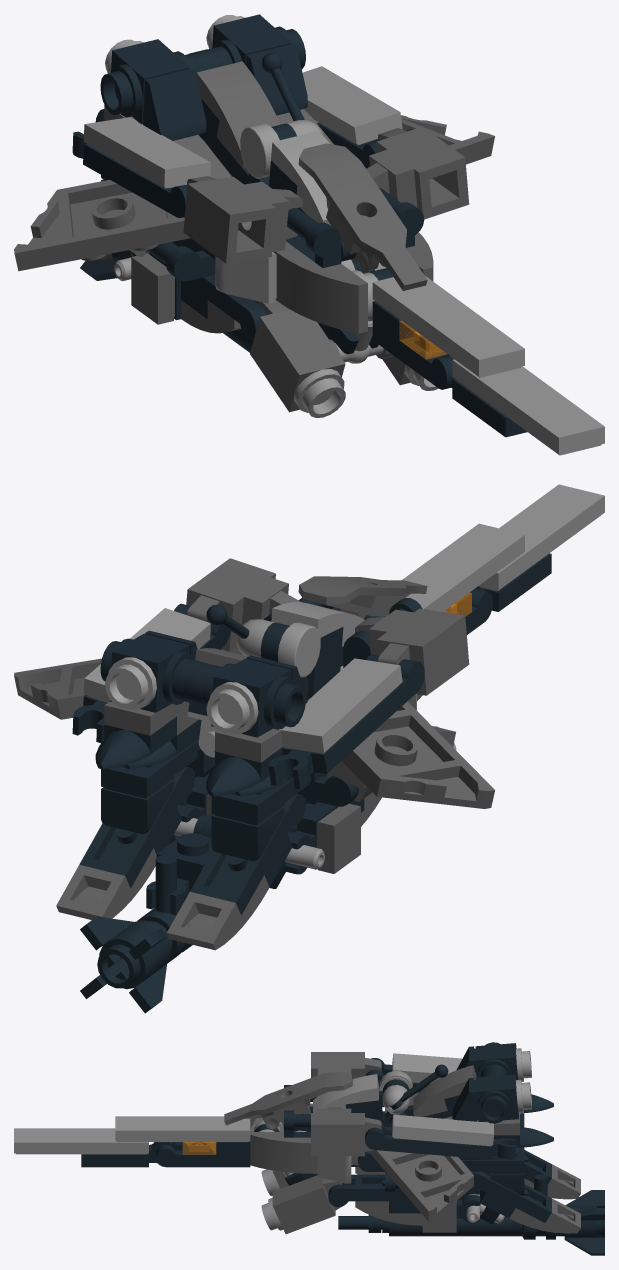
Rendered from mvf-02a.dae.
3 renders of one model, top to bottom at view 1: azimuth 30°, elevation 25°; view 2: azimuth 150°, elevation 25°; view 3: azimuth 270°, elevation 25°, orthographic. The views are drawn at different scales.
Bounding box in the file's own units: 209 × 350 × 124.
